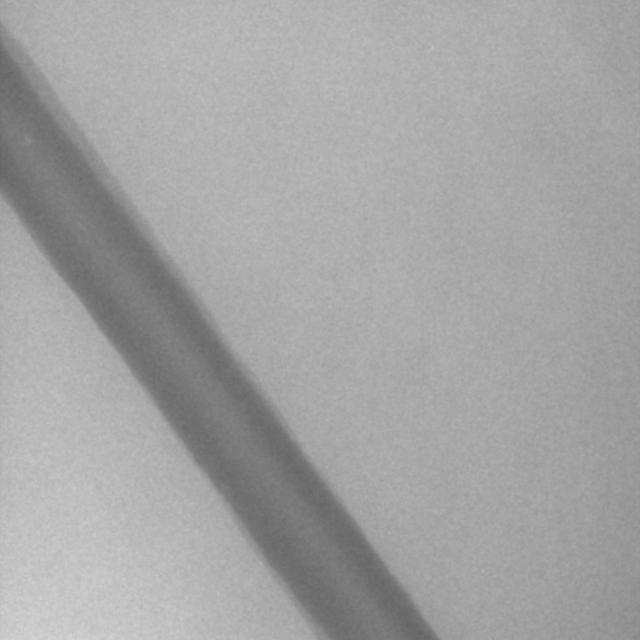air-hole: (25, 130, 35, 148)
